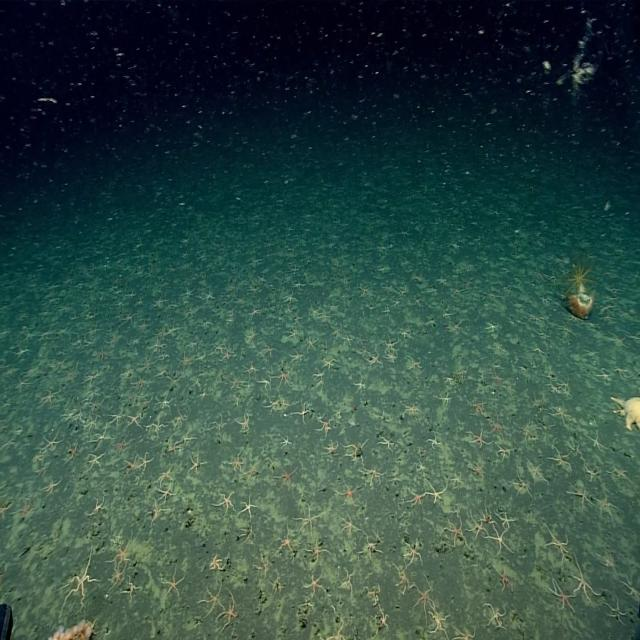brittle-stars: (61, 550, 95, 606), (572, 559, 598, 603), (413, 578, 436, 618), (546, 525, 569, 563), (159, 567, 185, 599), (550, 579, 576, 611), (274, 521, 296, 558), (296, 502, 320, 535), (482, 601, 508, 630), (201, 582, 226, 612), (111, 534, 134, 566), (487, 526, 513, 554), (446, 512, 466, 548), (218, 591, 238, 626), (302, 570, 328, 595), (89, 426, 113, 452), (428, 607, 449, 636), (304, 538, 329, 562), (345, 438, 369, 463), (213, 491, 236, 517), (605, 596, 626, 624), (392, 565, 412, 594), (337, 480, 358, 506), (359, 466, 386, 486), (568, 482, 590, 506), (403, 540, 424, 565), (423, 482, 448, 503), (511, 472, 532, 497), (594, 492, 614, 518), (276, 466, 297, 490), (487, 415, 508, 439), (187, 447, 205, 474), (340, 510, 358, 536), (496, 566, 514, 592), (146, 501, 168, 522), (42, 475, 61, 499), (407, 485, 426, 509), (551, 446, 570, 470), (121, 576, 139, 601), (239, 495, 257, 520), (374, 606, 390, 634), (360, 535, 379, 558), (550, 404, 570, 425), (468, 427, 488, 448), (469, 512, 485, 538), (528, 460, 544, 486), (147, 413, 165, 436), (42, 432, 62, 452), (244, 459, 260, 484), (13, 497, 32, 518), (88, 494, 106, 516), (156, 483, 174, 505), (208, 413, 226, 435), (583, 458, 599, 482), (609, 464, 631, 481), (364, 583, 380, 606), (589, 430, 605, 453), (227, 372, 246, 391), (452, 625, 476, 640), (292, 403, 310, 423), (227, 452, 244, 473), (498, 508, 514, 530), (109, 566, 124, 589), (87, 451, 105, 470), (468, 399, 486, 418), (125, 411, 142, 431), (41, 389, 59, 407), (237, 412, 251, 435), (275, 367, 291, 387), (317, 415, 332, 436), (378, 434, 395, 452), (352, 373, 366, 394), (596, 366, 613, 383), (108, 409, 124, 427), (210, 553, 226, 571), (366, 348, 379, 370), (113, 438, 128, 457), (158, 468, 173, 487), (520, 423, 534, 443), (304, 334, 318, 354), (173, 408, 186, 429), (83, 413, 99, 430), (403, 402, 420, 418), (149, 338, 166, 354), (123, 456, 138, 474), (383, 335, 398, 353), (164, 320, 178, 339), (139, 451, 152, 471), (261, 340, 276, 357), (473, 457, 484, 480), (67, 442, 79, 462), (450, 471, 462, 491), (322, 441, 338, 456), (398, 326, 413, 342), (258, 376, 273, 392), (243, 329, 258, 345), (284, 325, 299, 341), (134, 375, 148, 392), (307, 303, 322, 318), (279, 433, 293, 449), (264, 397, 280, 411), (427, 433, 440, 450), (283, 289, 296, 306), (158, 392, 171, 409), (179, 351, 193, 366), (321, 358, 336, 372), (312, 367, 326, 382), (245, 360, 258, 376), (490, 369, 502, 386), (140, 355, 152, 372), (203, 286, 214, 304), (437, 392, 451, 406), (409, 356, 423, 370), (152, 294, 166, 308), (181, 431, 194, 446), (484, 322, 500, 334), (278, 397, 290, 412), (327, 298, 339, 313), (457, 366, 468, 382), (221, 348, 233, 362), (290, 278, 304, 290), (248, 306, 262, 318), (355, 332, 366, 347), (87, 388, 100, 400), (168, 443, 180, 454), (286, 264, 298, 275), (182, 288, 194, 299), (392, 297, 401, 309)
